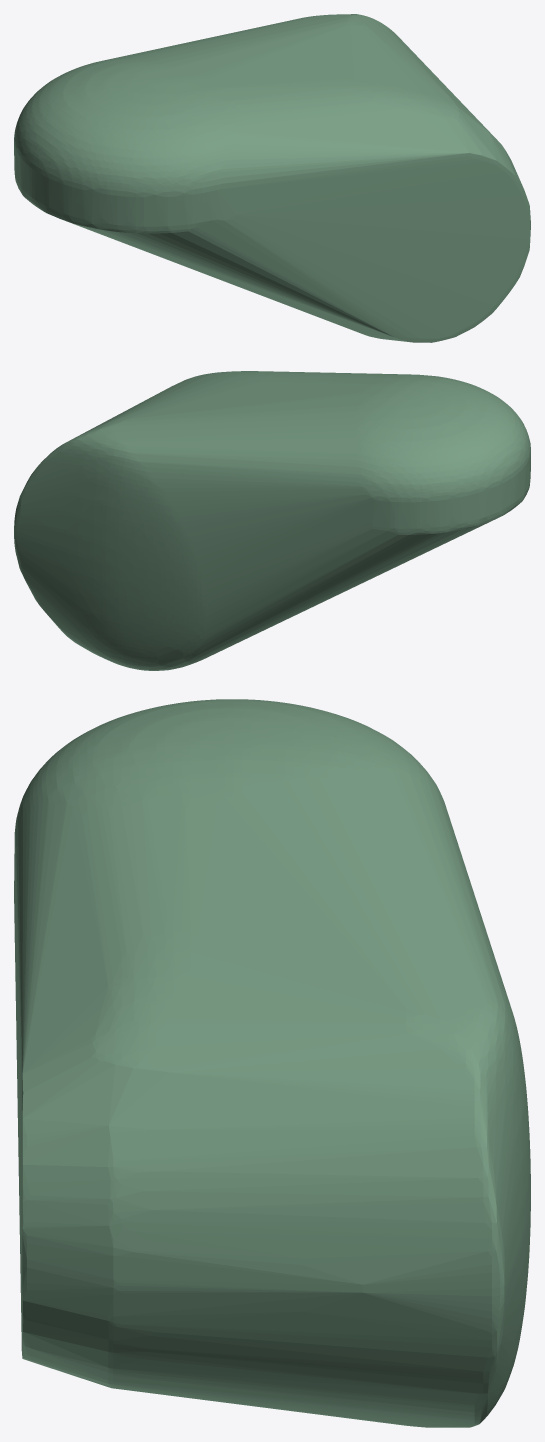
File: L_arm_l6.obj
3 renders of one model, top to bottom at view 1: azimuth 30°, elevation 25°; view 2: azimuth 150°, elevation 25°; view 3: azimuth 270°, elevation 25°, orthographic. The views are drawn at different scales.
Parts seen in each view (by area): view 1: geometry_0; view 2: geometry_0; view 3: geometry_0.
Boxes of the visible parts, <box> form: geometry_0: <box>14,14,530,342</box>; geometry_0: <box>14,371,530,670</box>; geometry_0: <box>14,699,530,1427</box>.
Bounding box in the file's own units: 0.1346 × 0.0821 × 0.08.
